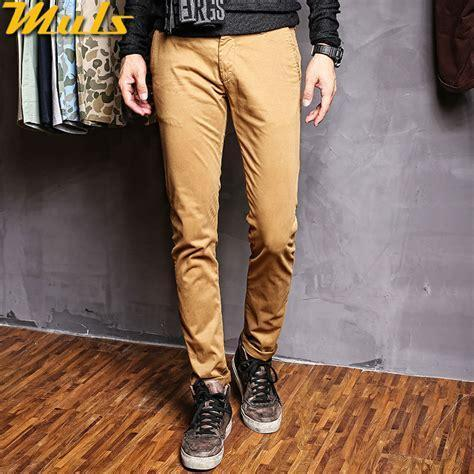pants: (150, 24, 302, 386)
